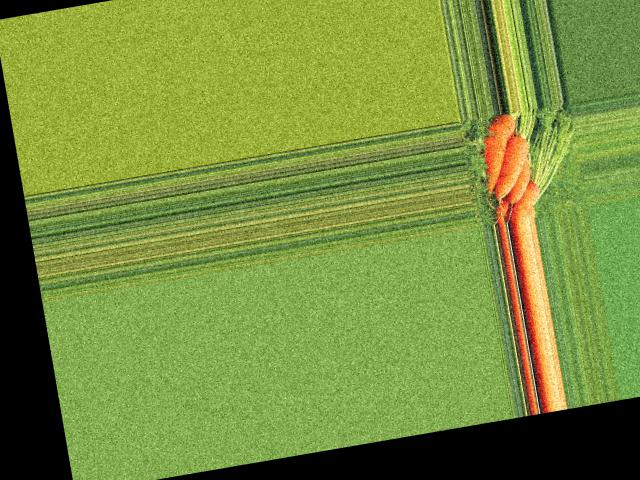carrot: (501, 180, 547, 219)
